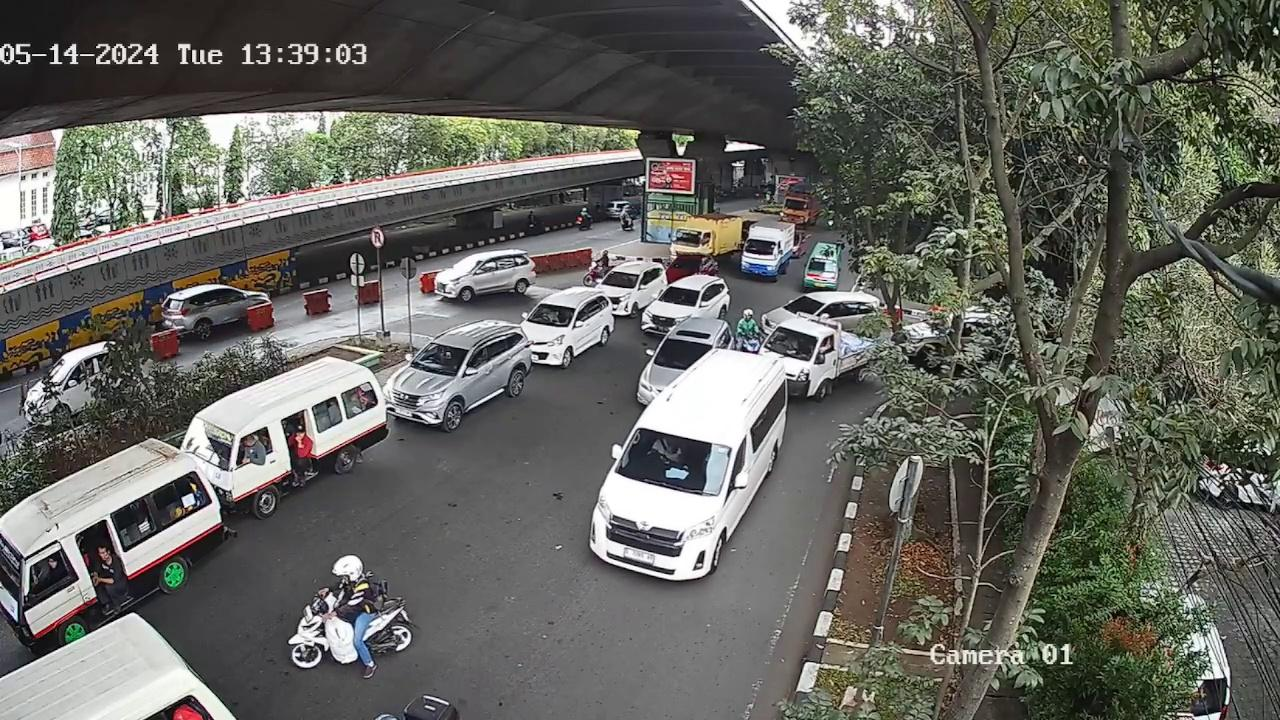pakai: (650, 437, 681, 466)
windshield: (616, 426, 731, 490), (183, 421, 239, 470), (766, 325, 831, 362), (653, 335, 715, 371), (413, 344, 466, 374), (527, 302, 574, 325), (661, 283, 701, 306)
